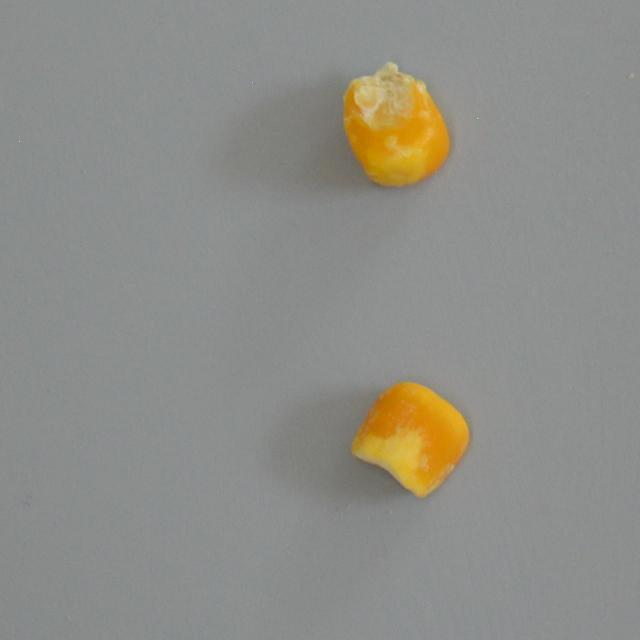no_desgerminado: (336, 58, 454, 189)
pelicula: (349, 379, 472, 501)
